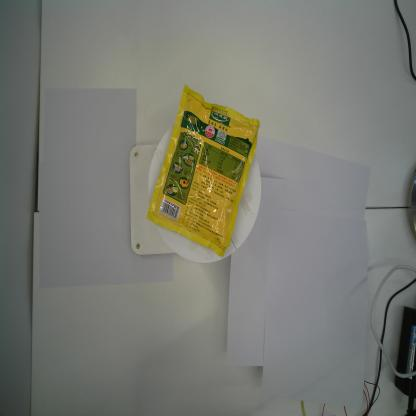Seasoner: (146, 83, 260, 258)
